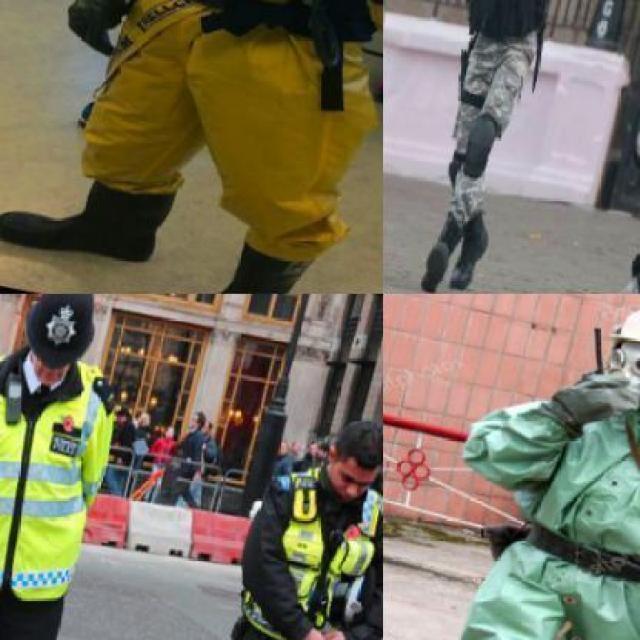Vest: (60, 0, 382, 289), (442, 357, 638, 638), (0, 345, 140, 626), (248, 466, 382, 639), (452, 0, 579, 52)
